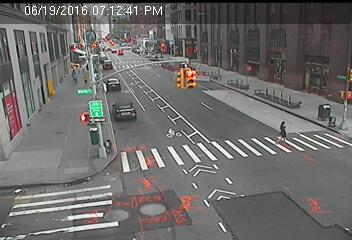neg: (212, 40, 227, 59), (183, 34, 196, 52), (153, 39, 165, 55), (239, 63, 249, 77)
pos: (270, 117, 290, 144), (70, 72, 80, 85)
